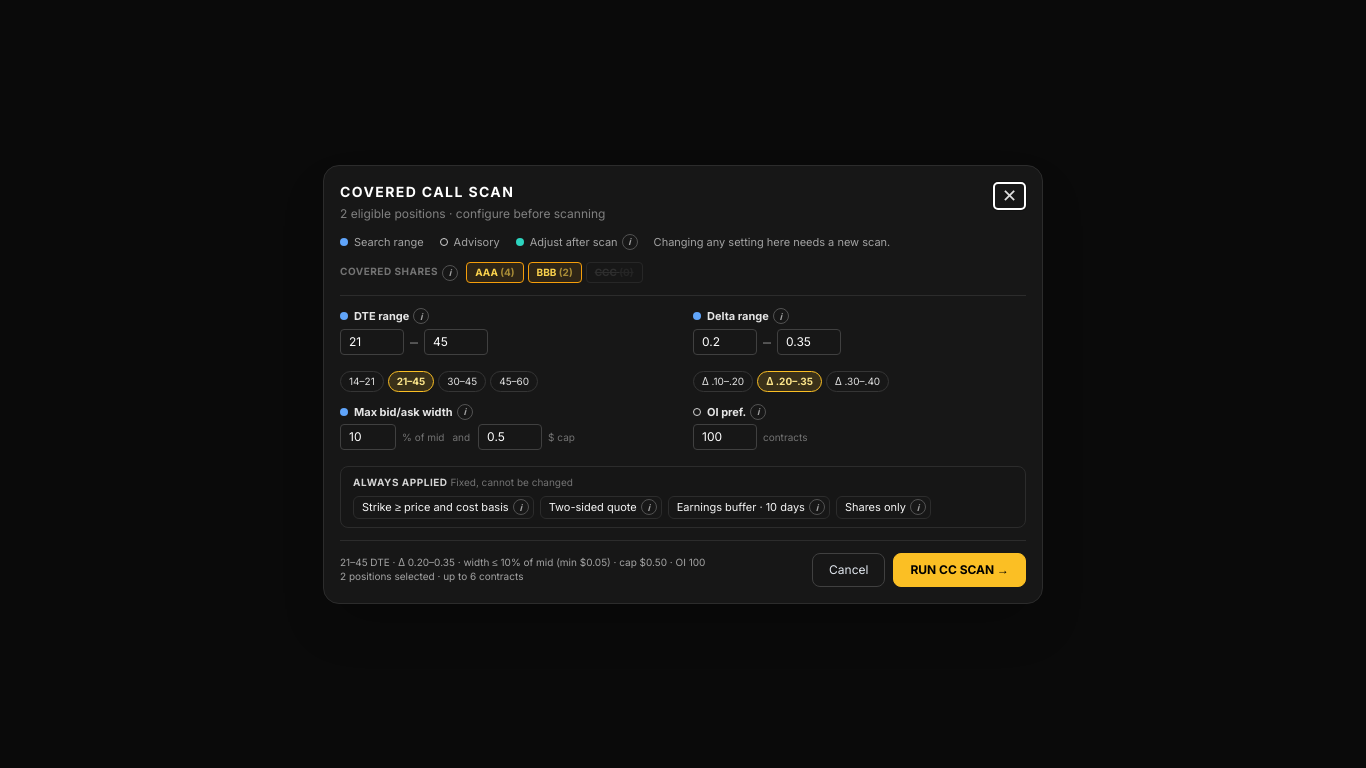
Test: invalid ranges are announced and block Run › a delta above 1 names its own field
Replace the text in the field named "Max Δ" with "1.5": x=809, y=342 777,328 -> 841,354
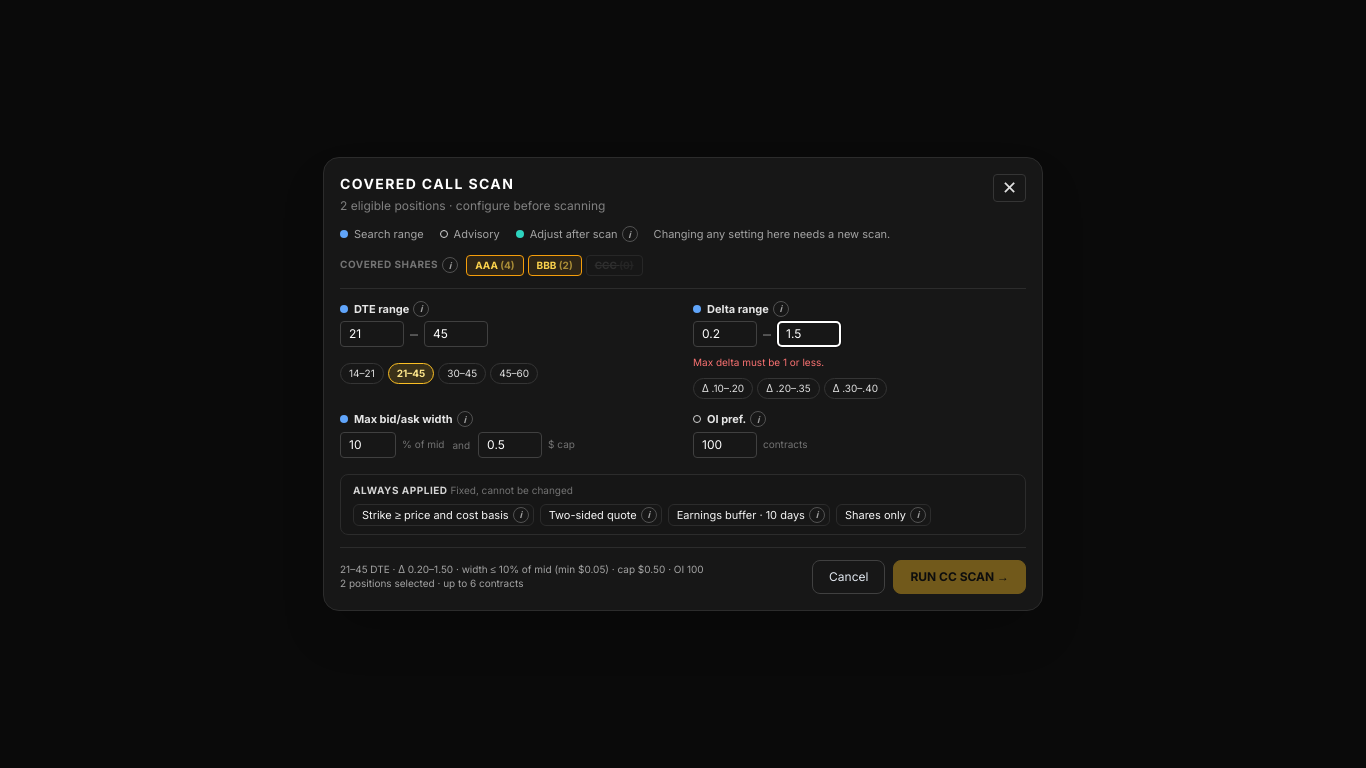
Now the text "Max delta must be 1 or less." is shown, box 693,356 -> 824,368
Now the button "RUN CC SCAN →" is disabled, box 893,560 -> 1026,594
